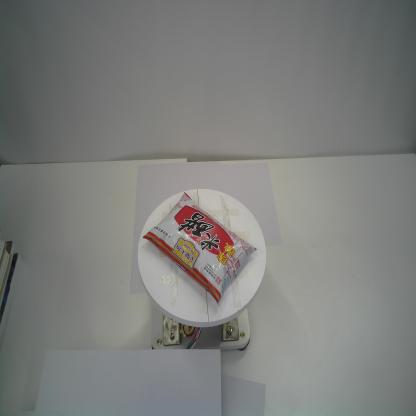Seasoner: (141, 186, 257, 310)
